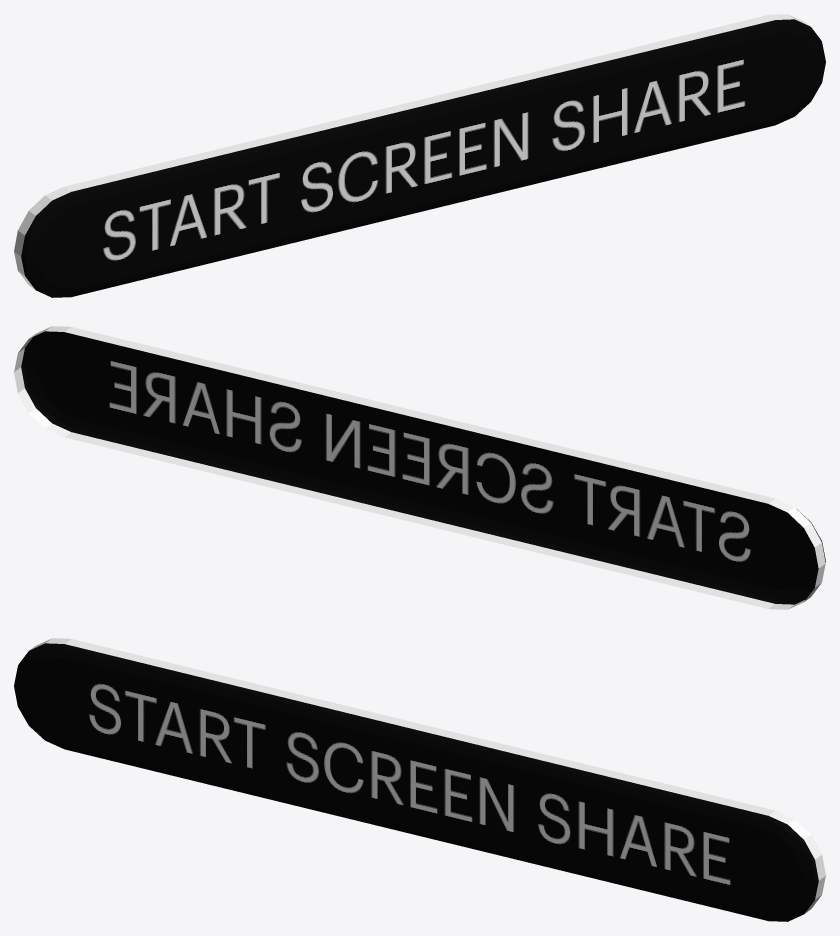
The model's file is button-start-screen-share.fbx.
3 views of the same model, one above another, from view 1: azimuth 30°, elevation 25°; view 2: azimuth 150°, elevation 25°; view 3: azimuth 330°, elevation 25° (orthographic).
Visible parts, largest first — view 1: Button-Screenshare; view 2: Button-Screenshare; view 3: Button-Screenshare.
Boxes of the visible parts, x1=… form: Button-Screenshare: x1=14, y1=14, x2=825, y2=297; Button-Screenshare: x1=14, y1=326, x2=825, y2=609; Button-Screenshare: x1=14, y1=638, x2=825, y2=921.
Size of the model in its own units: 80.93 by 10.12 by 1.89.
1 material, 1 textured.
